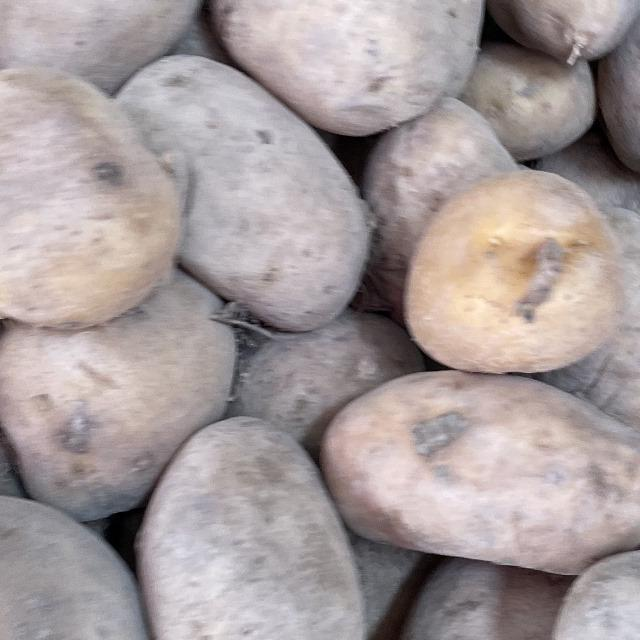potato: (95, 367, 410, 640), (307, 337, 640, 572), (0, 45, 190, 340), (0, 470, 155, 640)
